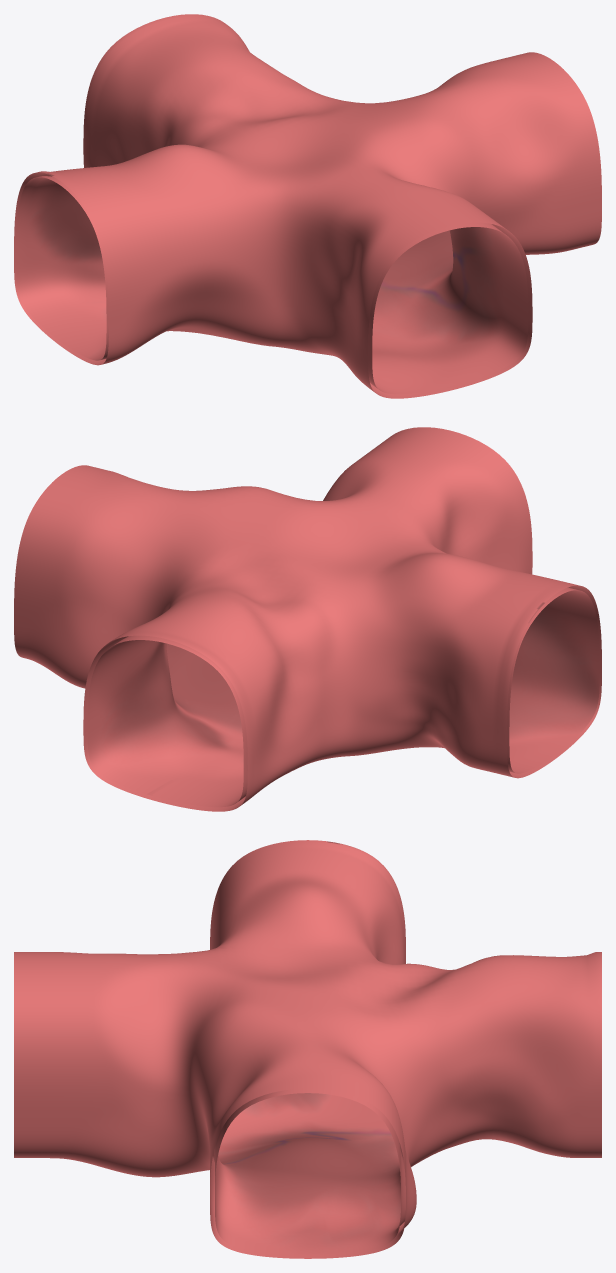
File: cave_crossroad.fbx
3 renders of one model, top to bottom at view 1: azimuth 30°, elevation 25°; view 2: azimuth 150°, elevation 25°; view 3: azimuth 270°, elevation 25°, orthographic. The views are drawn at different scales.
Visible parts, largest first — view 1: cave_crossroad.000; view 2: cave_crossroad.000; view 3: cave_crossroad.000.
Part boxes in pixels (left/top/right/bottom): cave_crossroad.000: left=14, top=14, right=601, bottom=398; cave_crossroad.000: left=14, top=427, right=601, bottom=811; cave_crossroad.000: left=14, top=840, right=601, bottom=1258.
Size of the model in its own units: 600 by 223 by 600.
Materials: 1 (1 with a texture image).
